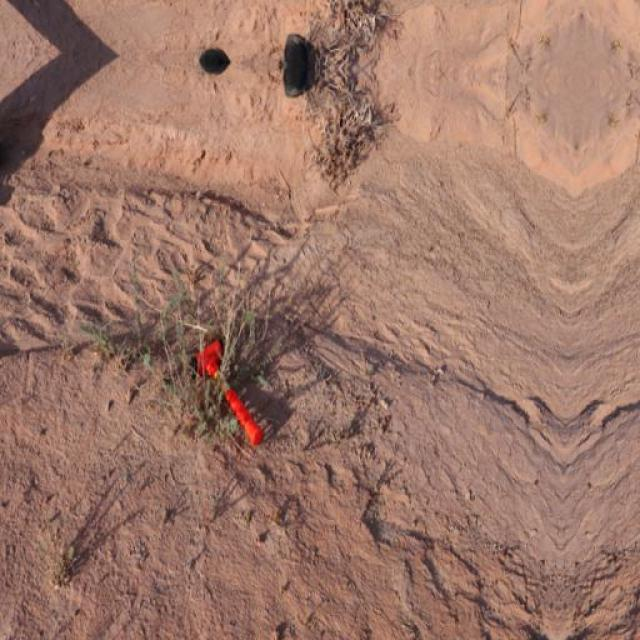mallet: (196, 338, 266, 447)
